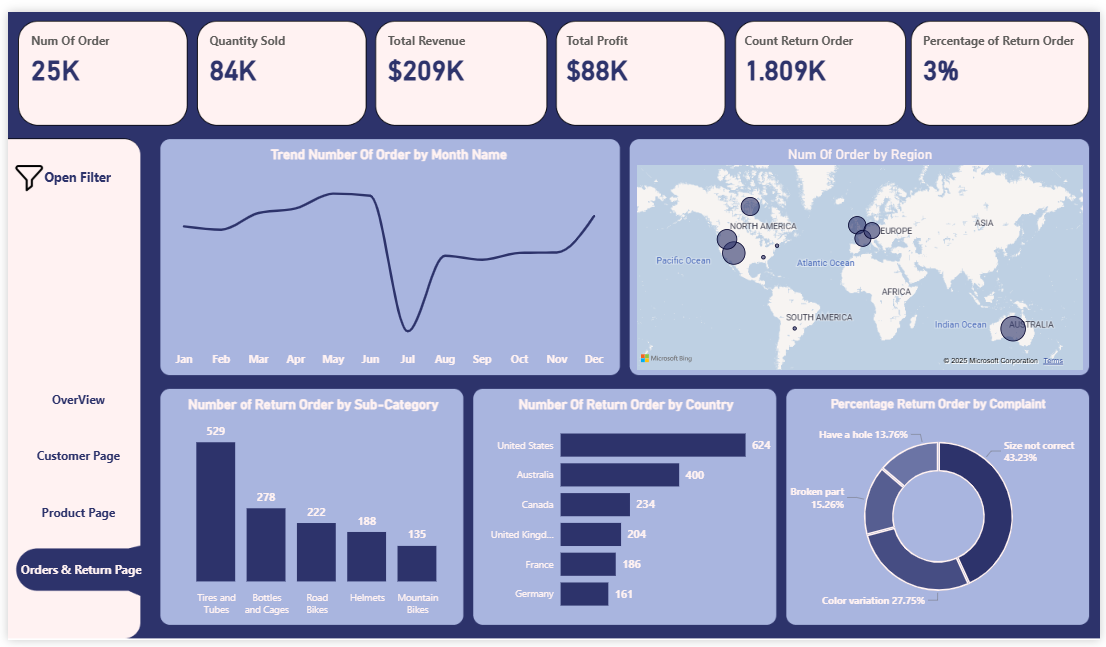

What the dashboard file says about the page in this screenshot:
{"tool":"powerbi","page":{"name":"Orders & Return Page","canvas":[1366,786],"ordinal":3},"visuals":[{"type":"actionButton","box":[0,183.3,167.8,45.6],"z":0,"group":"g1"},{"type":"cardVisual","fields":{"Data":["_DAX_Measure.Num Of Order","_DAX_Measure.Quantity Sold","_DAX_Measure.Total Revenue","_DAX_Measure.Total Profit","_DAX_Measure.Count Return Order","_DAX_Measure.Percentage of Return Order"]},"box":[13.3,13.3,1344.4,128.9],"z":1000},{"type":"image","box":[0,181.1,52.2,51.1],"z":1000,"group":"g1"},{"type":"lineChart","title":"Trend Number Of Order by Month Name","fields":{"Category":["Date_Dim.Quarter","Date_Dim.Month Name"],"Y":["_DAX_Measure.Num Of Order"]},"box":[196.7,162.2,560,290],"z":2000},{"type":"donutChart","title":"Percentage Return Order by Complaint","fields":{"Y":["_DAX_Measure.Count Return Order"],"Category":["Return.Complaint Description"]},"box":[977.8,474.4,371.1,287.8],"z":3000},{"type":"barChart","title":"Number Of Return Order by Country","fields":{"Y":["_DAX_Measure.Count Return Order"],"Category":["Territories.Country"]},"box":[583.3,474.4,377.8,287.8],"z":4000},{"type":"columnChart","title":"Number of Return Order by Sub-Category","fields":{"Y":["_DAX_Measure.Count Return Order"],"Category":["Product Subcategories.SubcategoryName"]},"box":[196.7,474.4,371.1,287.8],"z":5000},{"type":"map","fields":{"Category":["Territories.Region"],"Size":["_DAX_Measure.Num Of Order"]},"box":[781.1,162.2,567.8,290],"z":7000},{"type":"pageNavigator","box":[0,452,168,274],"z":8000},{"type":"group","id":"g1","title":"Group 1","box":[0,181.1,167.8,51.1],"z":9000}]}

Visuals, with their boxes in screenshot pixels (x1, y1, x2, y2), scaled from the page's 1366x786 canvas onto the 1106x647 screenshot:
actionButton: (left=0, top=151, right=136, bottom=188)
cardVisual - _DAX_Measure.Num Of Order x _DAX_Measure.Quantity Sold: (left=11, top=11, right=1099, bottom=117)
image: (left=0, top=149, right=42, bottom=191)
"Trend Number Of Order by Month Name" lineChart: (left=159, top=134, right=613, bottom=372)
"Percentage Return Order by Complaint" donutChart: (left=792, top=391, right=1092, bottom=627)
"Number Of Return Order by Country" barChart: (left=472, top=391, right=778, bottom=627)
"Number of Return Order by Sub-Category" columnChart: (left=159, top=391, right=460, bottom=627)
map - Territories.Region x _DAX_Measure.Num Of Order: (left=632, top=134, right=1092, bottom=372)
pageNavigator: (left=0, top=372, right=136, bottom=598)
"Group 1" group: (left=0, top=149, right=136, bottom=191)
